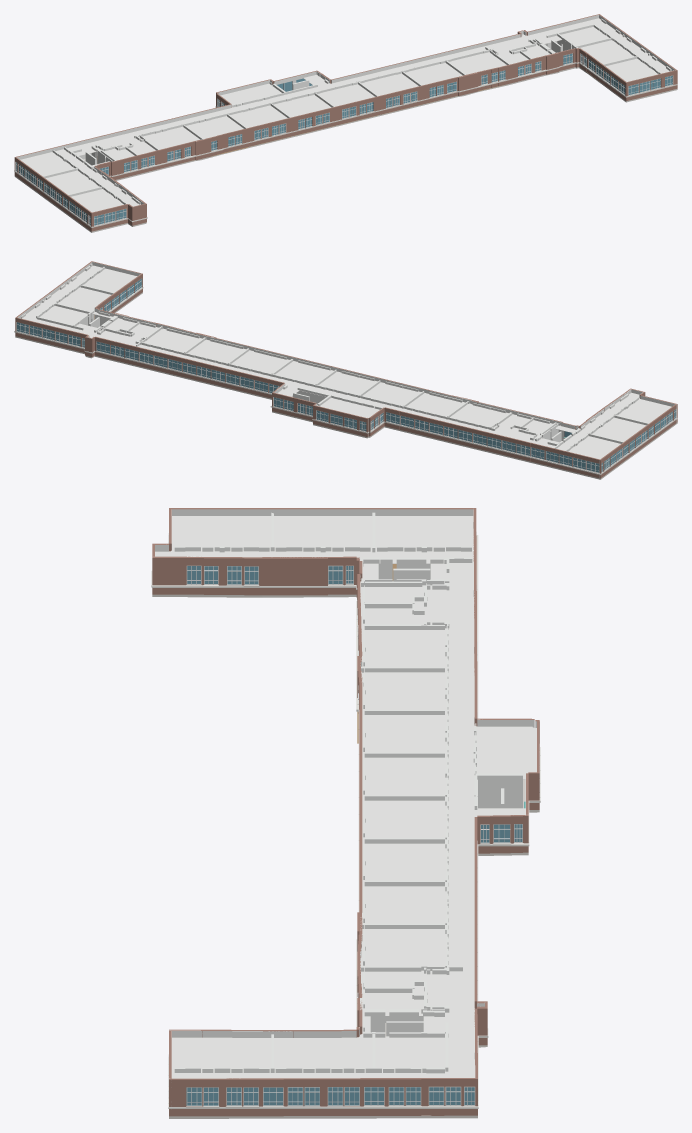
Rendered from main_3F.glb.
3 renders of one model, top to bottom at view 1: azimuth 30°, elevation 25°; view 2: azimuth 150°, elevation 25°; view 3: azimuth 270°, elevation 25°, orthographic. The views are drawn at different scales.
Visible parts, largest first — view 1: main_3F__ceil, main_3F__brick, main_3F__wallIn, main_3F__glass, main_3F__frameW, main_3F__white, main_3F__corrFloor, main_3F__rail; view 2: main_3F__ceil, main_3F__brick, main_3F__wallIn, main_3F__glass, main_3F__frameW, main_3F__white, main_3F__corrFloor, main_3F__rail; view 3: main_3F__ceil, main_3F__wallIn, main_3F__brick, main_3F__glass, main_3F__white, main_3F__frameW, main_3F__corrFloor.
Part boxes in pixels (x1,y1,x2,y2): main_3F__ceil: (20, 18, 669, 212); main_3F__brick: (14, 14, 677, 231); main_3F__wallIn: (15, 15, 675, 204); main_3F__glass: (16, 53, 672, 225); main_3F__frameW: (15, 53, 673, 225); main_3F__white: (14, 62, 677, 227); main_3F__corrFloor: (14, 67, 677, 232); main_3F__rail: (16, 60, 672, 223); main_3F__ceil: (22, 265, 671, 459); main_3F__brick: (15, 261, 677, 478); main_3F__wallIn: (16, 262, 676, 477); main_3F__glass: (17, 279, 675, 472); main_3F__frameW: (16, 278, 676, 472); main_3F__white: (14, 287, 677, 474); main_3F__corrFloor: (15, 292, 677, 479); main_3F__rail: (17, 285, 676, 471); main_3F__ceil: (155, 516, 536, 1078); main_3F__wallIn: (155, 509, 539, 1105); main_3F__brick: (152, 508, 539, 1116); main_3F__glass: (186, 566, 522, 1105); main_3F__white: (151, 535, 540, 1108); main_3F__frameW: (186, 565, 522, 1106); main_3F__corrFloor: (152, 581, 539, 1118).
Size of the model in its own units: 121 by 3.85 by 34.64.
